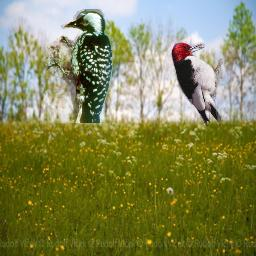Woodpecker: (45, 9, 112, 123), (171, 42, 223, 126)
